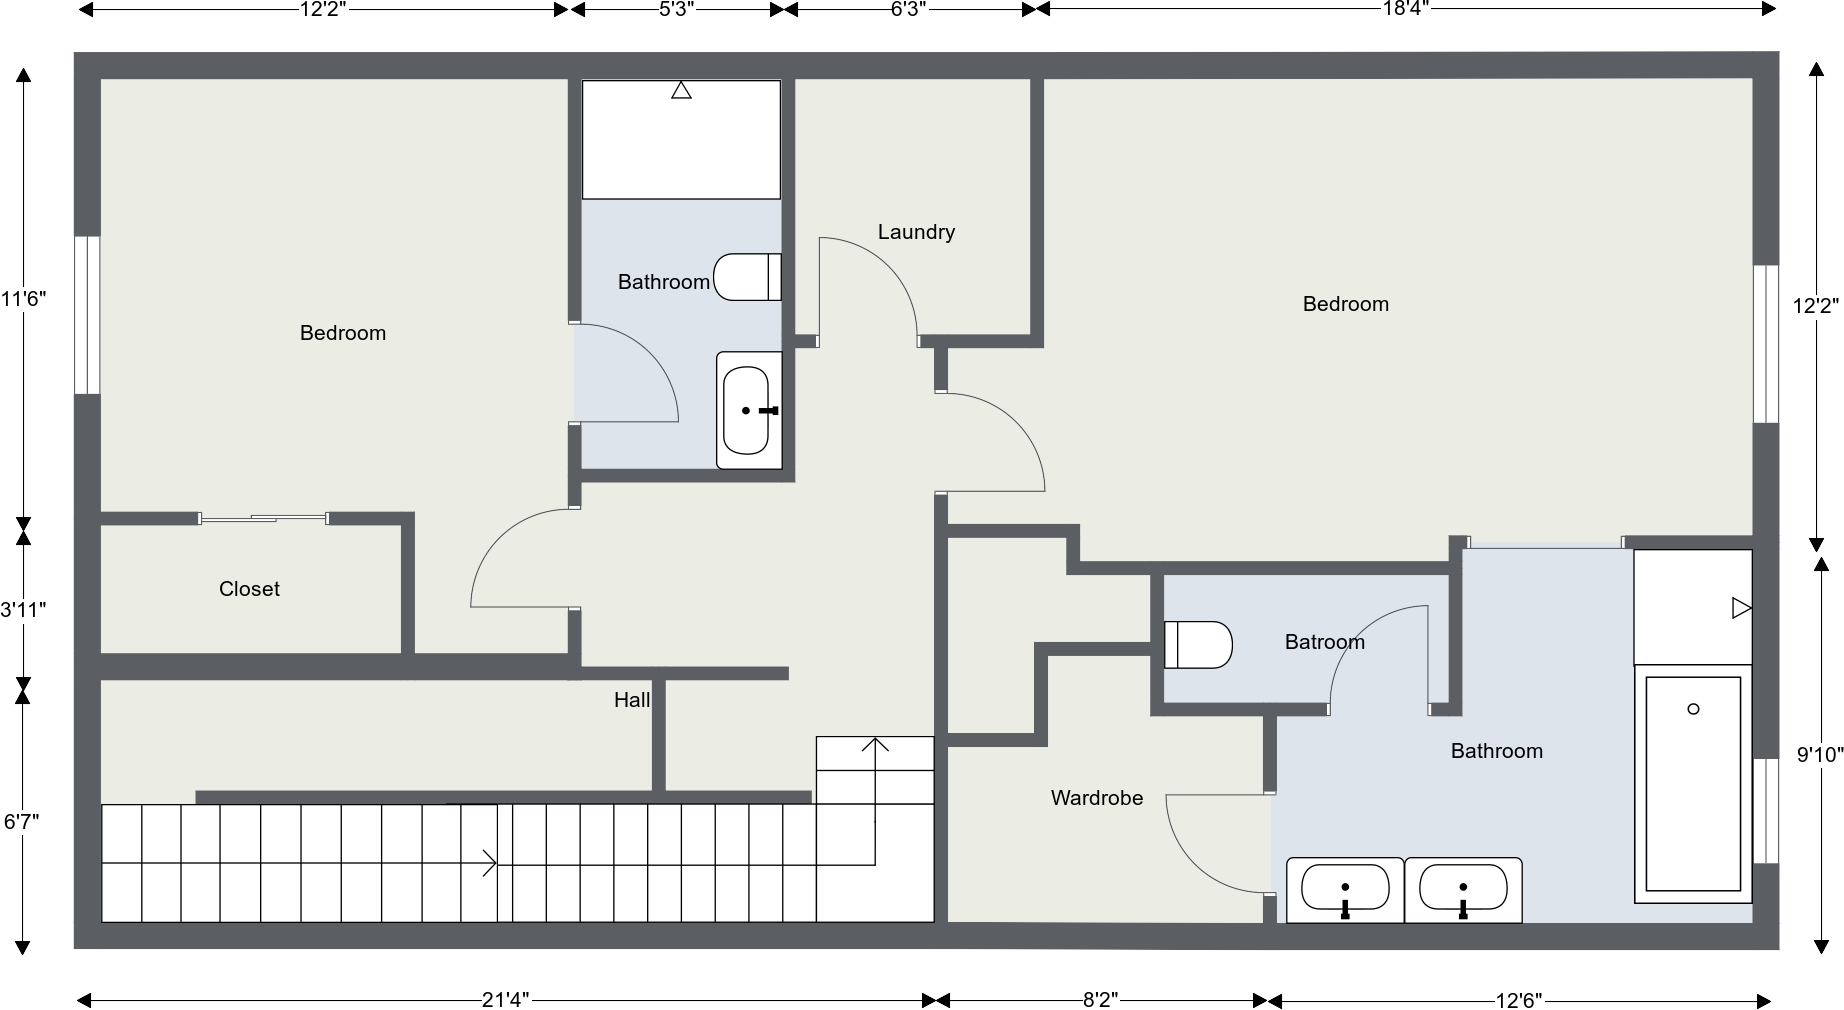room: (929, 46, 1781, 551), (66, 50, 583, 532), (913, 697, 1781, 952), (558, 49, 795, 486), (63, 649, 666, 807), (773, 47, 1044, 346), (931, 731, 1279, 952), (68, 509, 418, 680), (1146, 549, 1468, 718)
